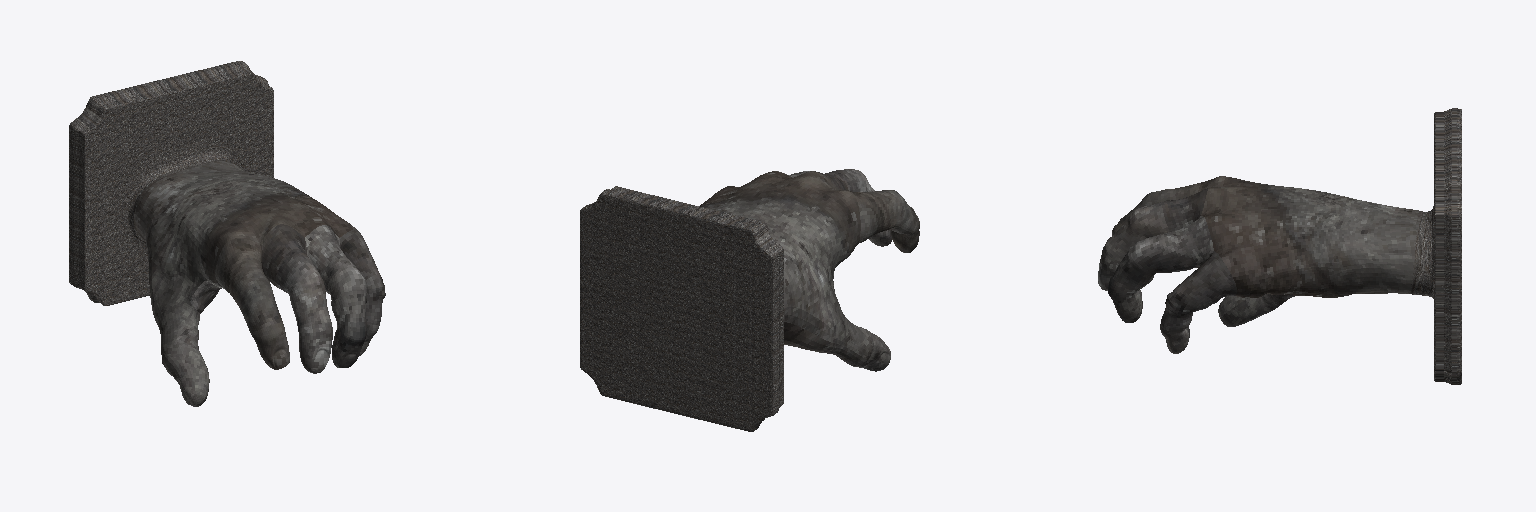
3 renders of one model, left to right at view 1: azimuth 30°, elevation 25°; view 2: azimuth 150°, elevation 25°; view 3: azimuth 270°, elevation 25°, orthographic.
Parts seen in each view (by area): view 1: 15252_KeyRingWallMountHand.002; view 2: 15252_KeyRingWallMountHand.002; view 3: 15252_KeyRingWallMountHand.002.
Part boxes in pixels (x1,y1,x2,y2): 15252_KeyRingWallMountHand.002: (69, 61, 385, 406); 15252_KeyRingWallMountHand.002: (580, 169, 919, 431); 15252_KeyRingWallMountHand.002: (1098, 108, 1461, 384).
Bounding box in the file's own units: 1.24 × 1.35 × 2.
1 materials, 1 textured.